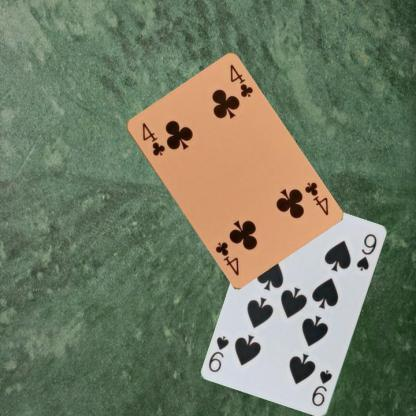4c: (302, 179, 330, 217), (139, 120, 166, 157)
9s: (309, 367, 333, 408)
